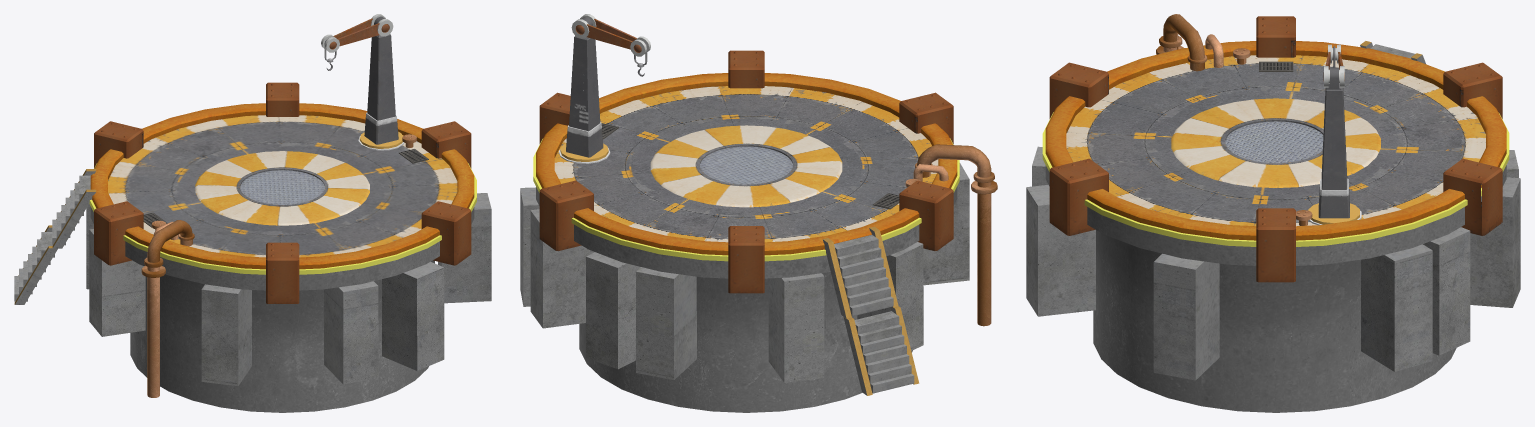
The model's file is stage.fbx.
3 renders of one model, left to right at view 1: azimuth 30°, elevation 25°; view 2: azimuth 150°, elevation 25°; view 3: azimuth 270°, elevation 25°, orthographic. The views are drawn at different scales.
Visible parts, largest first — view 1: stage, concrete, metal_cubes, pCube6, tube1, stairs1, stairs2, pCylinder23, metal_tunel; view 2: stage, concrete, metal_cubes, pCube6, stairs2, stairs1, tube1, pCylinder23, metal_tunel; view 3: stage, concrete, metal_cubes, pCube6, tube1.
Boxes of the visible parts, x1,y1,x2,y2 form: stage: (89, 103, 476, 412); concrete: (86, 193, 491, 385); metal_cubes: (94, 82, 471, 303); pCube6: (333, 16, 404, 150); tube1: (141, 220, 194, 397); stairs1: (52, 169, 96, 248); stairs2: (14, 225, 57, 304); pCylinder23: (321, 14, 393, 52); metal_tunel: (143, 149, 428, 227); stage: (533, 73, 959, 412); concrete: (520, 163, 969, 382); metal_cubes: (539, 50, 953, 293); pCube6: (558, 17, 636, 163); stairs2: (843, 306, 919, 395); stairs1: (823, 226, 898, 318); tube1: (913, 144, 997, 326); pCylinder23: (571, 14, 650, 56); metal_tunel: (601, 123, 899, 209); stage: (1042, 41, 1509, 412); concrete: (1026, 146, 1520, 380); metal_cubes: (1049, 16, 1502, 282); pCube6: (1308, 52, 1361, 225); tube1: (1156, 14, 1223, 71).
Size of the model in its own units: 1886 by 1297 by 1708.
